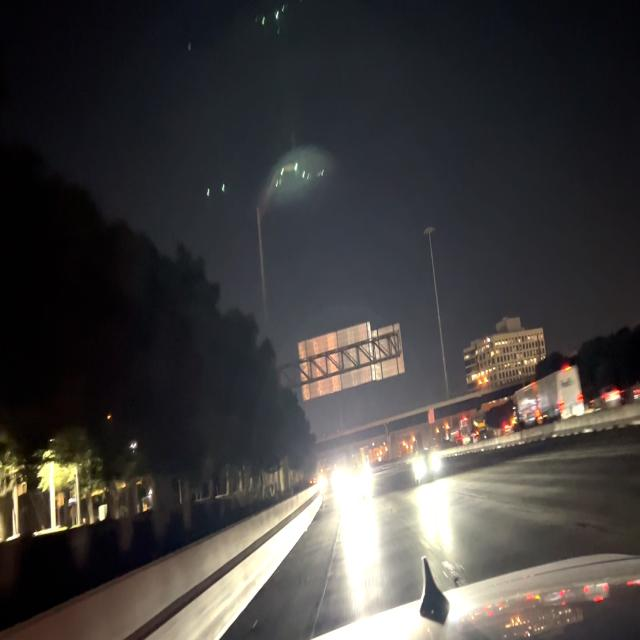back-of-sign: (298, 324, 407, 401)
